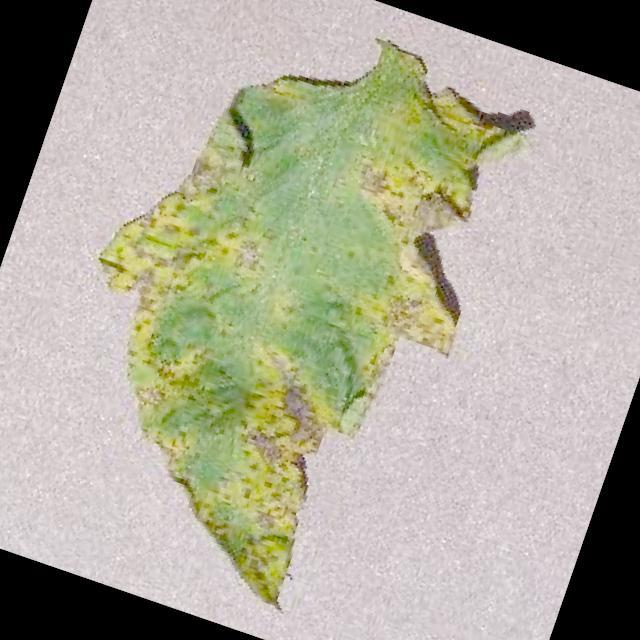Tomato Septoria spot leaf: (9, 0, 545, 637)
